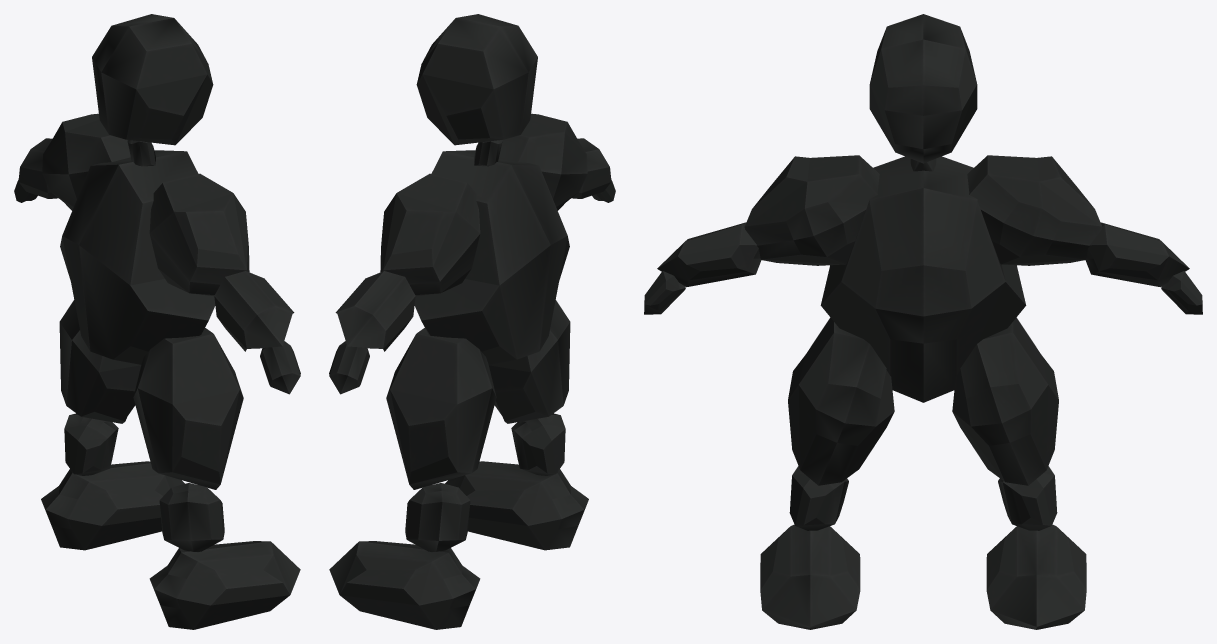
Rendered from Rock Monster.fbx.
3 views of the same model, side by side, from view 1: azimuth 30°, elevation 25°; view 2: azimuth 150°, elevation 25°; view 3: azimuth 270°, elevation 25° (orthographic). The views are drawn at different scales.
Visible parts, largest first — view 1: Rock_lp_3.001; view 2: Rock_lp_3.001; view 3: Rock_lp_3.001.
Boxes of the visible parts, x1,y1,x2,y2 form: Rock_lp_3.001: [14, 14, 300, 629]; Rock_lp_3.001: [329, 14, 615, 629]; Rock_lp_3.001: [644, 14, 1202, 629].
Bounding box in the file's own units: 169 × 540 × 471.
